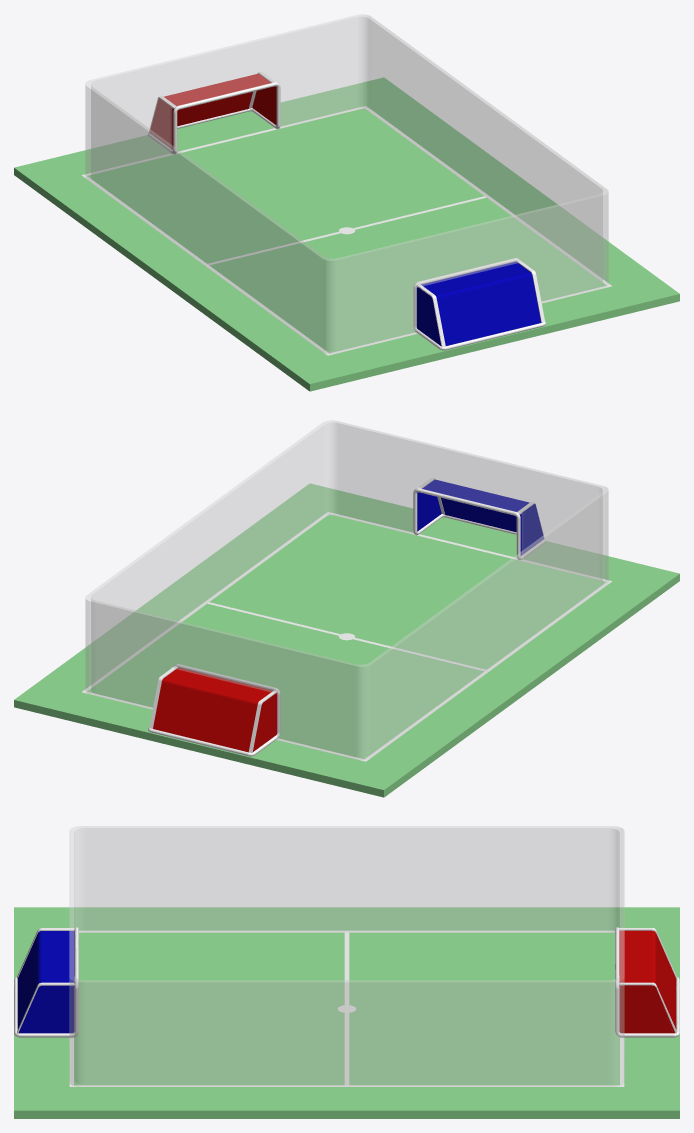
The model's file is field.glb.
The picture shows the model from 3 angles, top to bottom: view 1: azimuth 30°, elevation 25°; view 2: azimuth 150°, elevation 25°; view 3: azimuth 270°, elevation 25°; orthographic projection. The views are drawn at different scales.
Visible parts, largest first — view 1: obj_0.004, obj_0.003, obj_0.001, obj_0.002; view 2: obj_0.004, obj_0.003, obj_0.002, obj_0.001; view 3: obj_0.004, obj_0.003, obj_0.002, obj_0.001.
Boxes of the visible parts, x1,y1,x2,y2 form: obj_0.004: (14, 77, 679, 391); obj_0.003: (85, 14, 608, 353); obj_0.001: (413, 258, 545, 350); obj_0.002: (148, 72, 280, 154); obj_0.004: (14, 483, 679, 797); obj_0.003: (85, 420, 608, 759); obj_0.002: (148, 664, 280, 756); obj_0.001: (413, 478, 545, 560); obj_0.004: (14, 907, 679, 1118); obj_0.003: (69, 826, 624, 1086); obj_0.002: (615, 927, 679, 1037); obj_0.001: (14, 927, 78, 1037).
Size of the model in its own units: 52 by 13.5 by 72.
